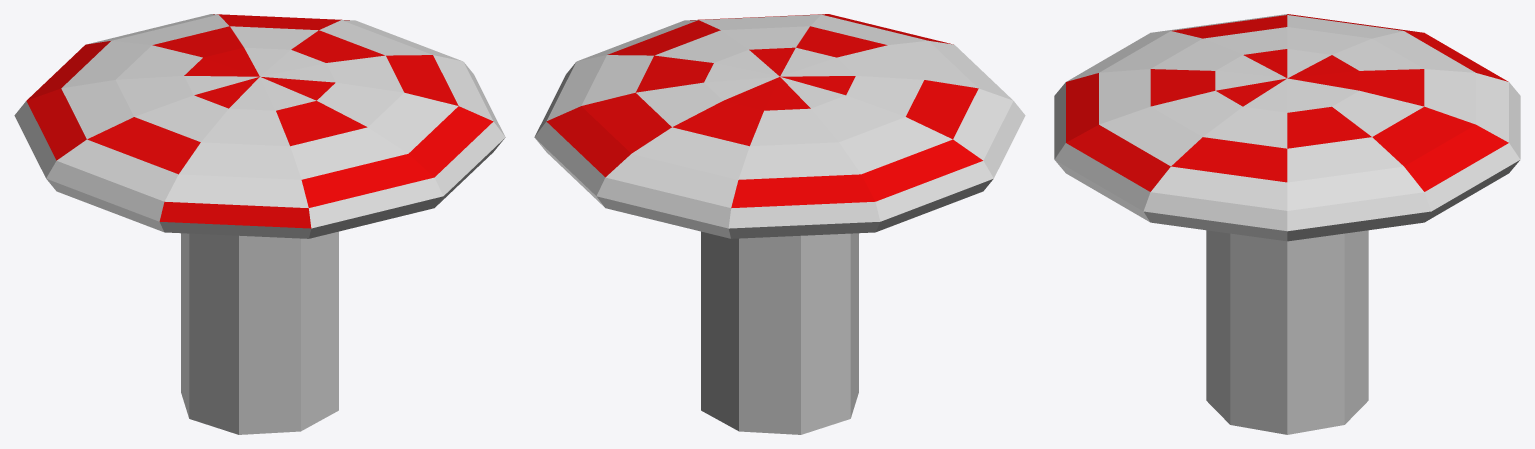
The model's file is RedMush.fbx.
3 renders of one model, left to right at view 1: azimuth 30°, elevation 25°; view 2: azimuth 150°, elevation 25°; view 3: azimuth 270°, elevation 25°, orthographic.
Parts seen in each view (by area): view 1: pSphere1, pCylinder1; view 2: pSphere1, pCylinder1; view 3: pSphere1, pCylinder1.
Part boxes in pixels (x1,y1,x2,y2): pSphere1: (14,14,505,238); pCylinder1: (181,231,338,434); pSphere1: (534,14,1025,238); pCylinder1: (701,231,858,434); pSphere1: (1054,14,1520,241); pCylinder1: (1206,230,1368,434).
Bounding box in the file's own units: 3.42 × 2.48 × 3.25.
